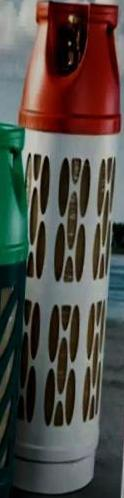cylinder: (1, 1, 124, 498)
